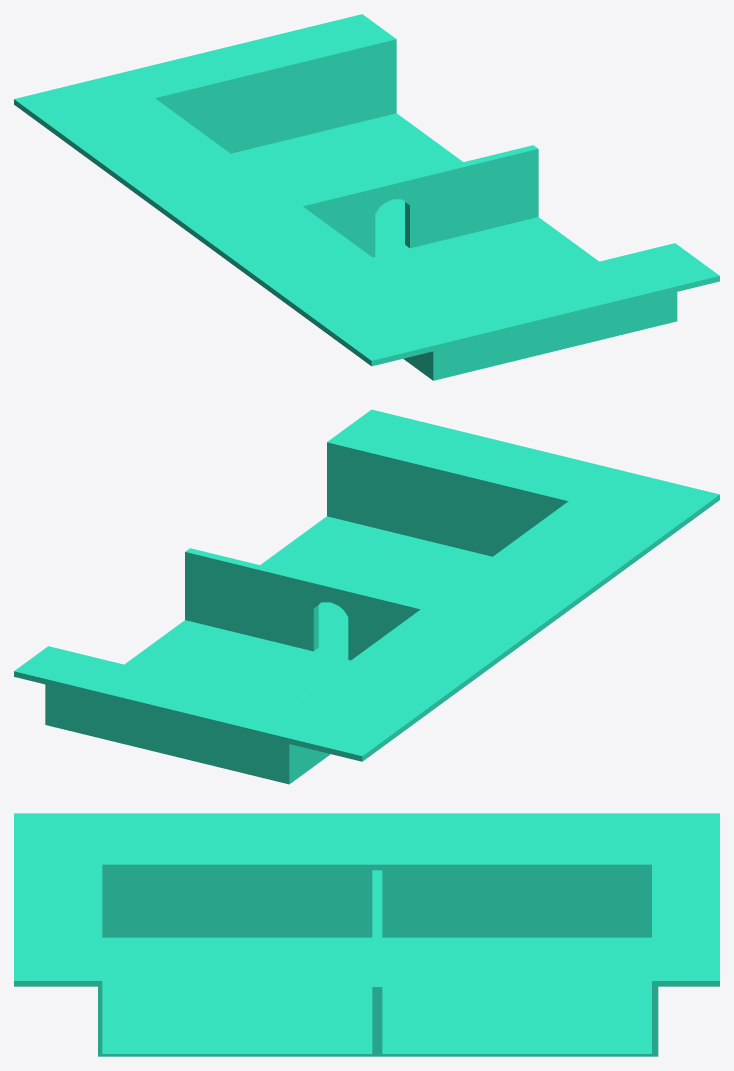
Rendered from Muro.fbx.
The picture shows the model from 3 angles, top to bottom: view 1: azimuth 30°, elevation 25°; view 2: azimuth 150°, elevation 25°; view 3: azimuth 270°, elevation 25°; orthographic projection.
Visible parts, largest first — view 1: Box023; view 2: Box023; view 3: Box023.
Boxes of the visible parts, x1,y1,x2,y2 form: Box023: (14, 14, 719, 380); Box023: (14, 409, 719, 784); Box023: (14, 813, 719, 1056).
Bounding box in the file's own units: 398 × 83.54 × 707.
